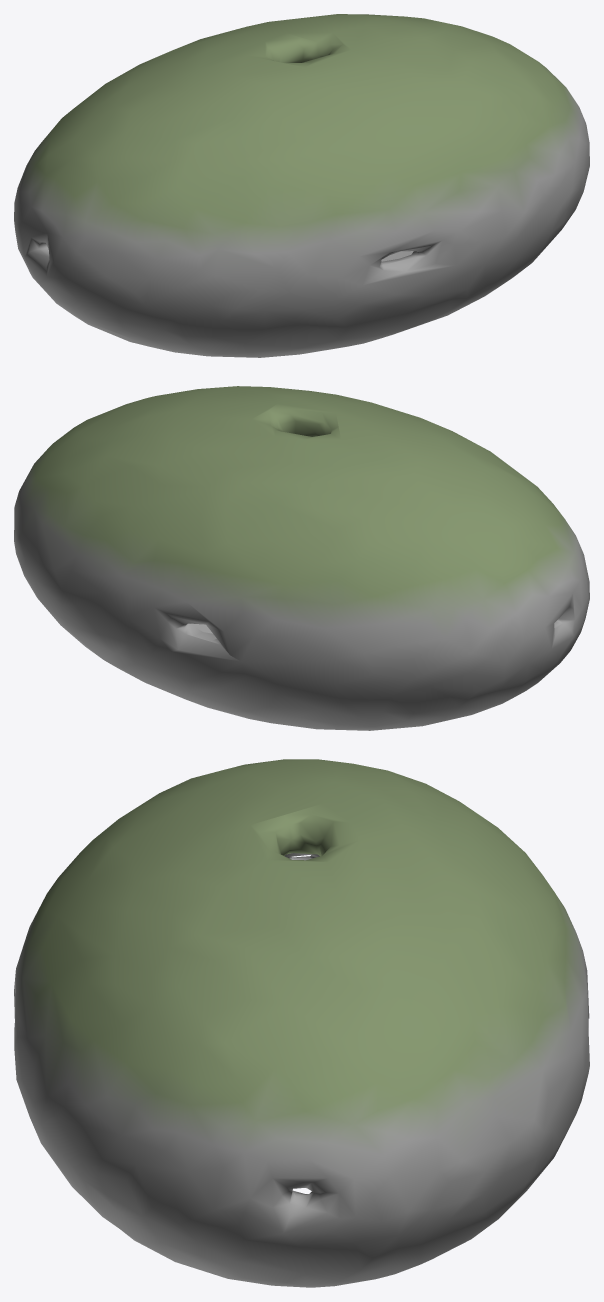
The model's file is sample-wreck-lod2.glb.
The picture shows the model from 3 angles, top to bottom: view 1: azimuth 30°, elevation 25°; view 2: azimuth 150°, elevation 25°; view 3: azimuth 270°, elevation 25°; orthographic projection. The views are drawn at different scales.
Visible parts, largest first — view 1: Part_Wreck; view 2: Part_Wreck; view 3: Part_Wreck.
Boxes of the visible parts, <box> form: Part_Wreck: <box>14,14,589,357</box>; Part_Wreck: <box>14,386,589,730</box>; Part_Wreck: <box>14,759,589,1287</box>.
Size of the model in its own units: 7 by 3.46 by 4.79.
